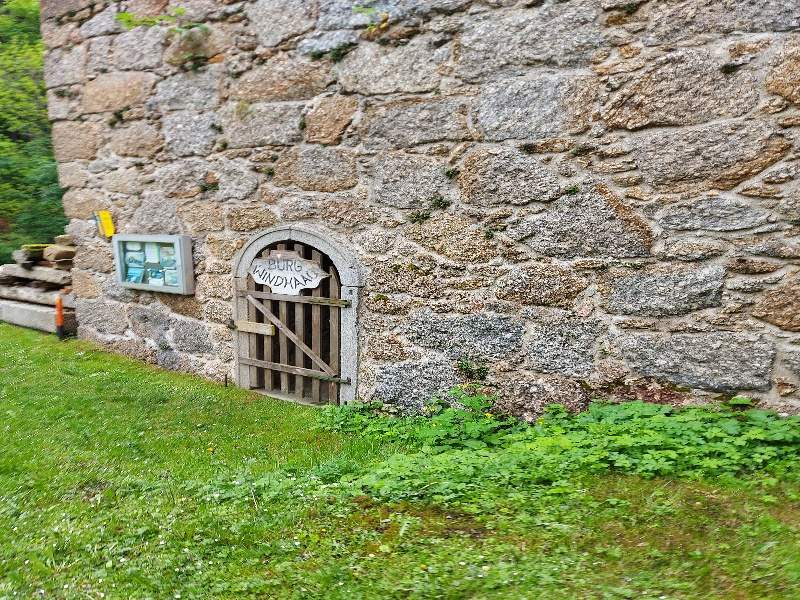dungeon: (207, 221, 385, 433)
